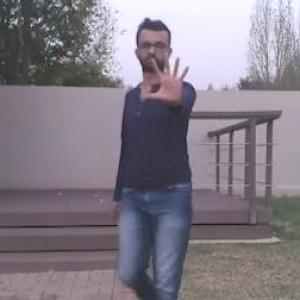follow_hand: (140, 46, 196, 105)
